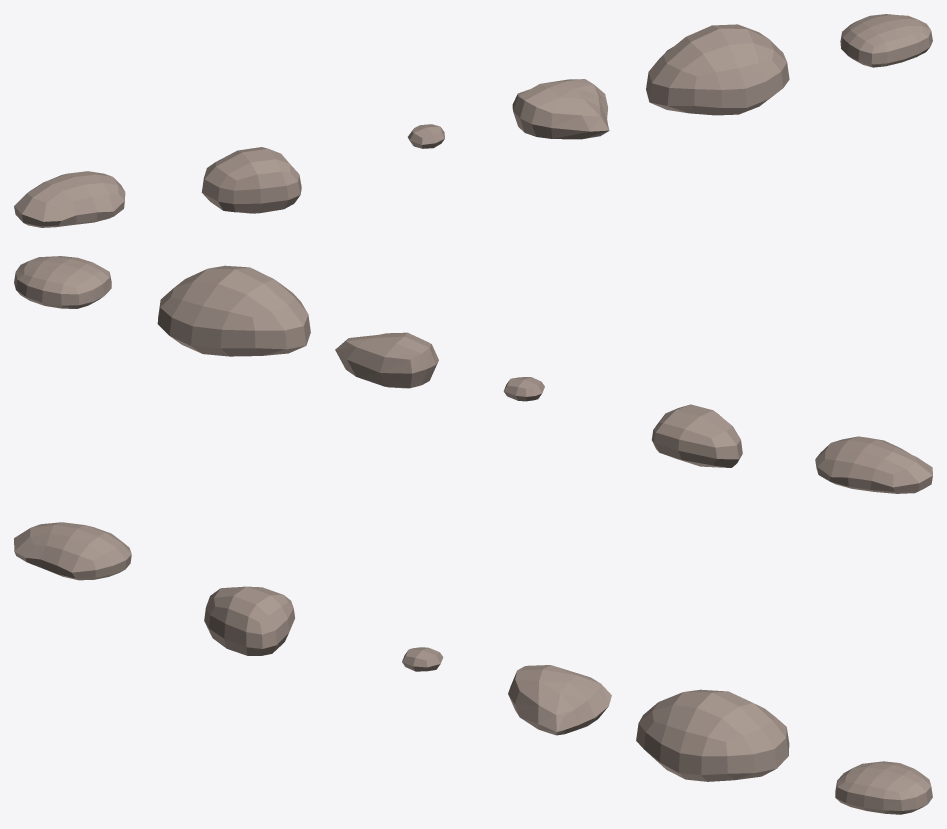
File: rocks.fbx
3 renders of one model, top to bottom at view 1: azimuth 30°, elevation 25°; view 2: azimuth 150°, elevation 25°; view 3: azimuth 330°, elevation 25°, orthographic. The views are drawn at different scales.
Parts seen in each view (by area): view 1: rock5, rock2, rock4, rock1, rock6, rock3; view 2: rock5, rock1, rock4, rock2, rock6, rock3; view 3: rock5, rock4, rock1, rock2, rock6, rock3.
Boxes of the visible parts, left/top/right/bottom form: rock5: left=646, top=24, right=789, bottom=115; rock2: left=201, top=147, right=301, bottom=213; rock4: left=512, top=79, right=609, bottom=139; rock1: left=14, top=171, right=125, bottom=227; rock6: left=840, top=14, right=932, bottom=67; rock3: left=408, top=124, right=444, bottom=148; rock5: left=157, top=265, right=310, bottom=356; rock1: left=815, top=436, right=932, bottom=493; rock4: left=335, top=332, right=438, bottom=388; rock2: left=651, top=404, right=742, bottom=467; rock6: left=14, top=256, right=111, bottom=308; rock3: left=503, top=377, right=544, bottom=401; rock5: left=636, top=689, right=789, bottom=781; rock4: left=508, top=665, right=611, bottom=735; rock1: left=14, top=522, right=131, bottom=580; rock2: left=204, top=586, right=294, bottom=655; rock6: left=835, top=761, right=932, bottom=814; rock3: left=402, top=647, right=443, bottom=671.
Size of the model in its own units: 1263 by 97.95 by 155.
